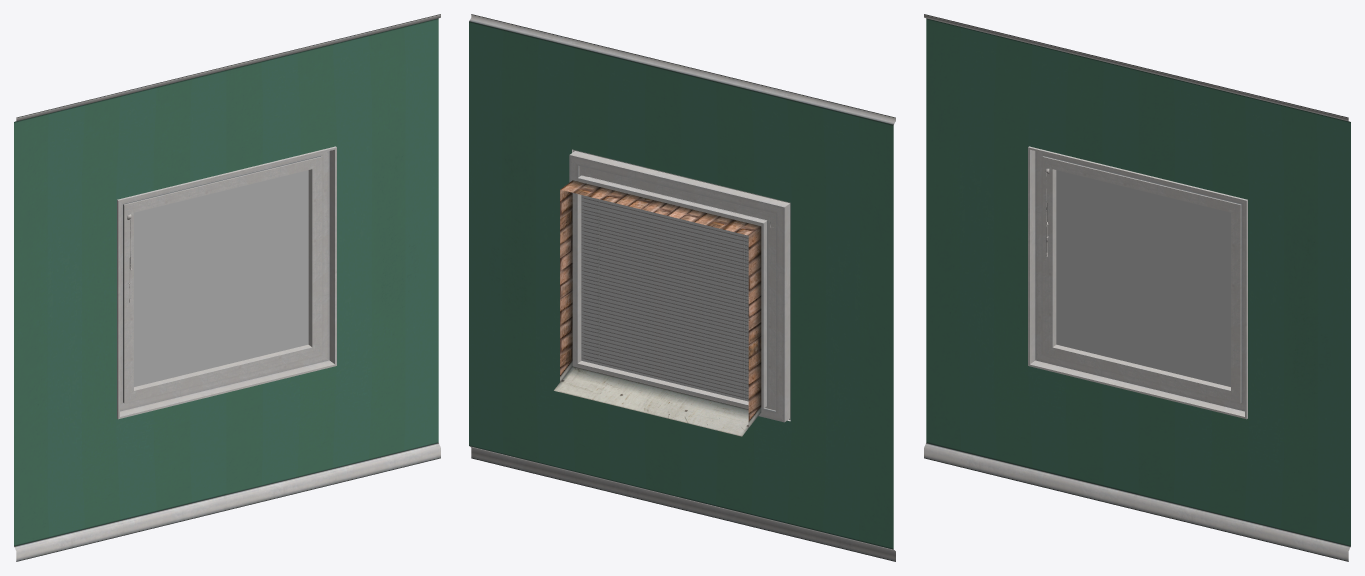
The model's file is livingroom_flat_window.dae.
3 views of the same model, side by side, from view 1: azimuth 30°, elevation 25°; view 2: azimuth 150°, elevation 25°; view 3: azimuth 330°, elevation 25° (orthographic).
Visible parts, largest first — view 1: window, pPlane13; view 2: window, pPlane13, polySurface139; view 3: window, pPlane13.
Boxes of the visible parts, left/top/right/bottom form: window: left=14, top=14, right=440, bottom=561; pPlane13: left=134, top=170, right=308, bottom=386; window: left=469, top=14, right=895, bottom=561; pPlane13: left=580, top=175, right=768, bottom=406; polySurface139: left=581, top=197, right=748, bottom=400; window: left=924, top=14, right=1350, bottom=561; pPlane13: left=1056, top=170, right=1230, bottom=386.
Size of the model in its own units: 4 by 4 by 0.5829.
